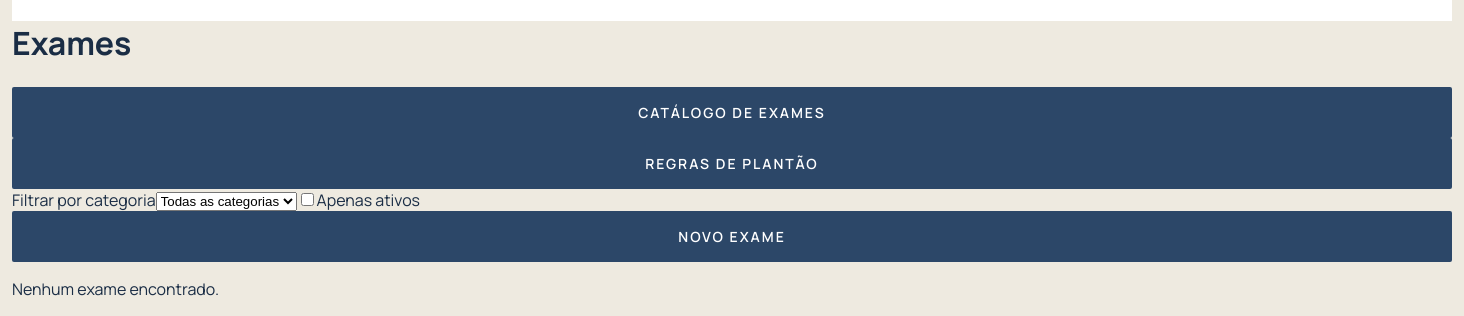
Test: TelaExames — estado vazio (Edge Case) › lista de regras vazia mostra "Nenhuma regra de plantão encontrada."
Click the button "Regras de Plantão" at (732, 163), box [12,138,1452,189]
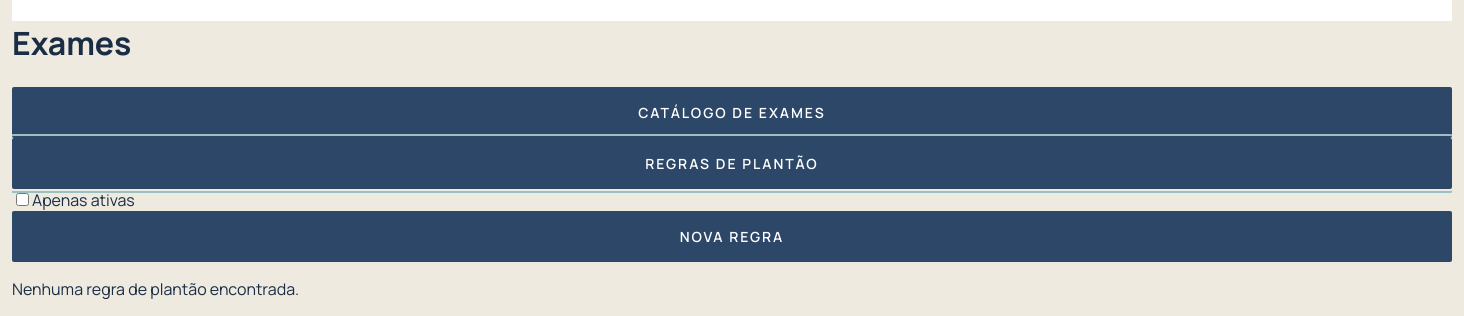
expect the text "Nenhuma regra de plantão encontrada." is shown: met, box [12,278,299,300]
